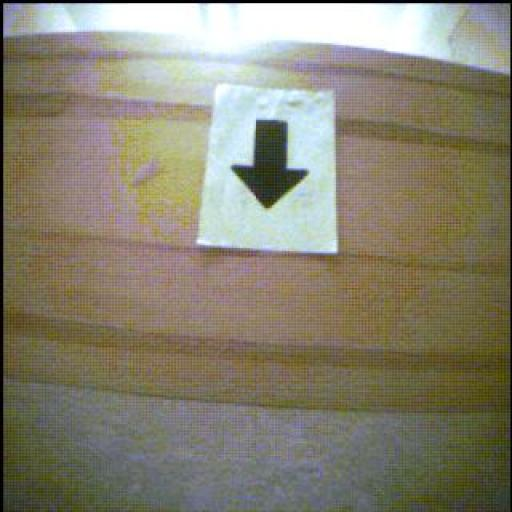arrow: (233, 121, 308, 209)
